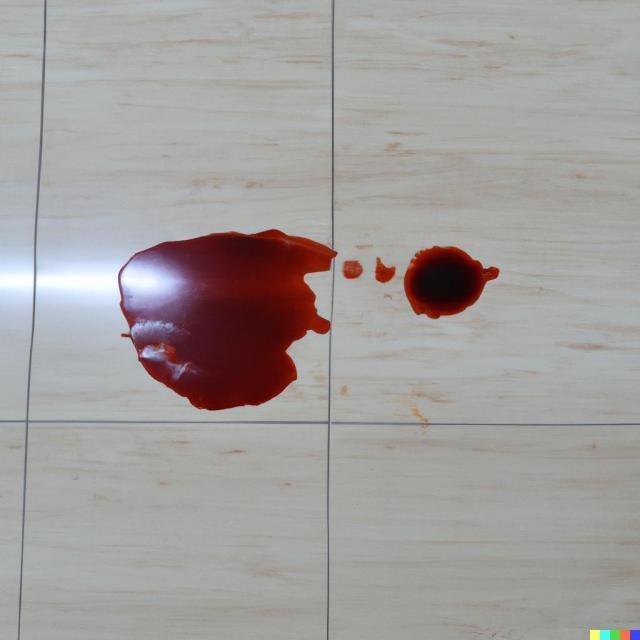flood: (109, 202, 516, 424)
